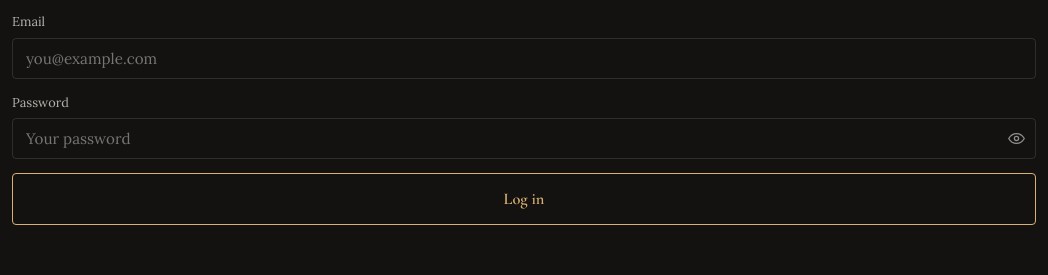
Test case: EmailPasswordForm › shows the rejected promise message and re-enables the button on failure
Type "user@example.com" into the field labelled "Email" at (524, 58), box [12, 38, 1036, 79]
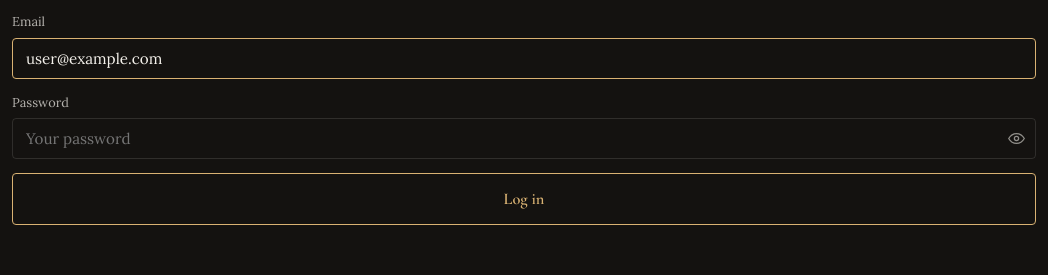
Type "wrongpass" into the password field labelled "Password" at (524, 139), box [12, 118, 1036, 160]
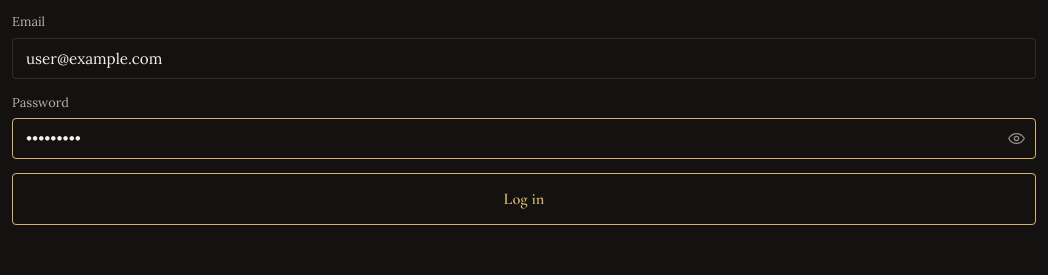
Click the button "Log in" at (524, 199), box [12, 173, 1036, 225]
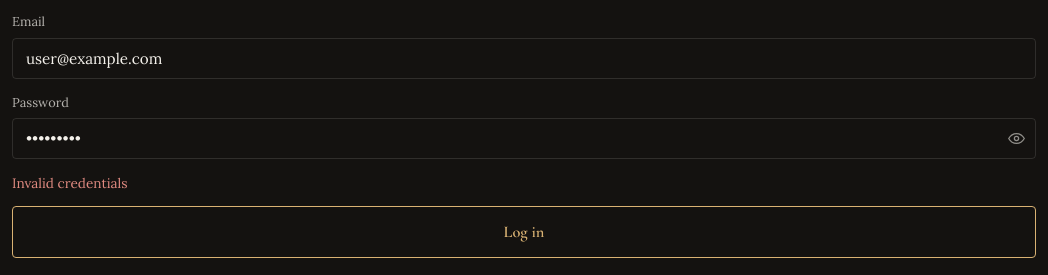
Expected: the button "Log in" is enabled, [12, 206, 1036, 258]
Expected: the text "Invalid credentials" is shown, [12, 174, 128, 192]
